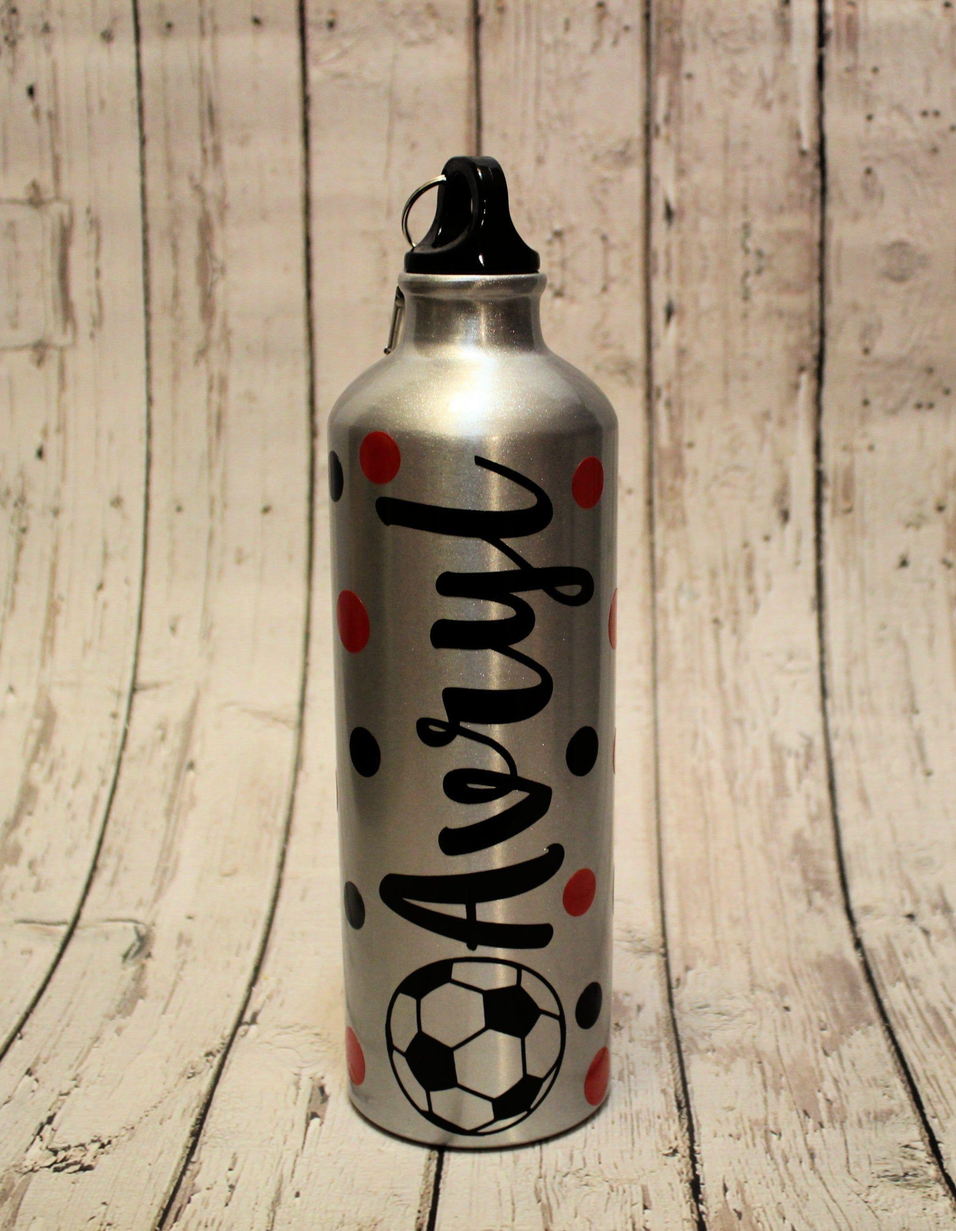gym bottle: (323, 154, 623, 1154)
